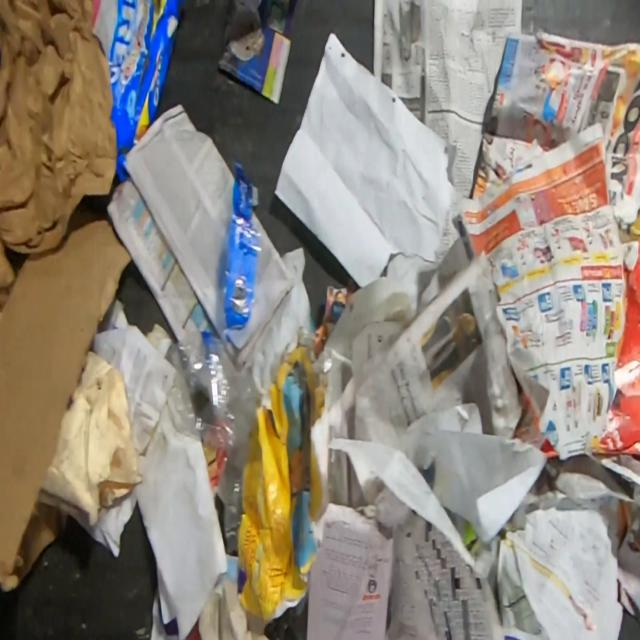cardboard: (0, 194, 136, 594), (12, 352, 144, 582), (226, 347, 330, 620), (588, 239, 640, 460), (461, 516, 528, 564), (0, 281, 15, 320)
rigid_plastic: (164, 161, 262, 552)
soft_plastic: (91, 0, 180, 182)
